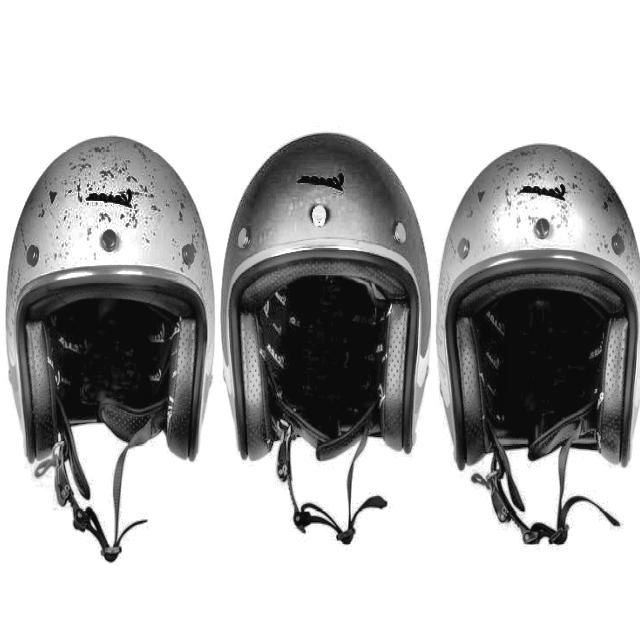Helmet: (2, 123, 220, 570), (220, 118, 435, 568), (432, 140, 640, 559)
